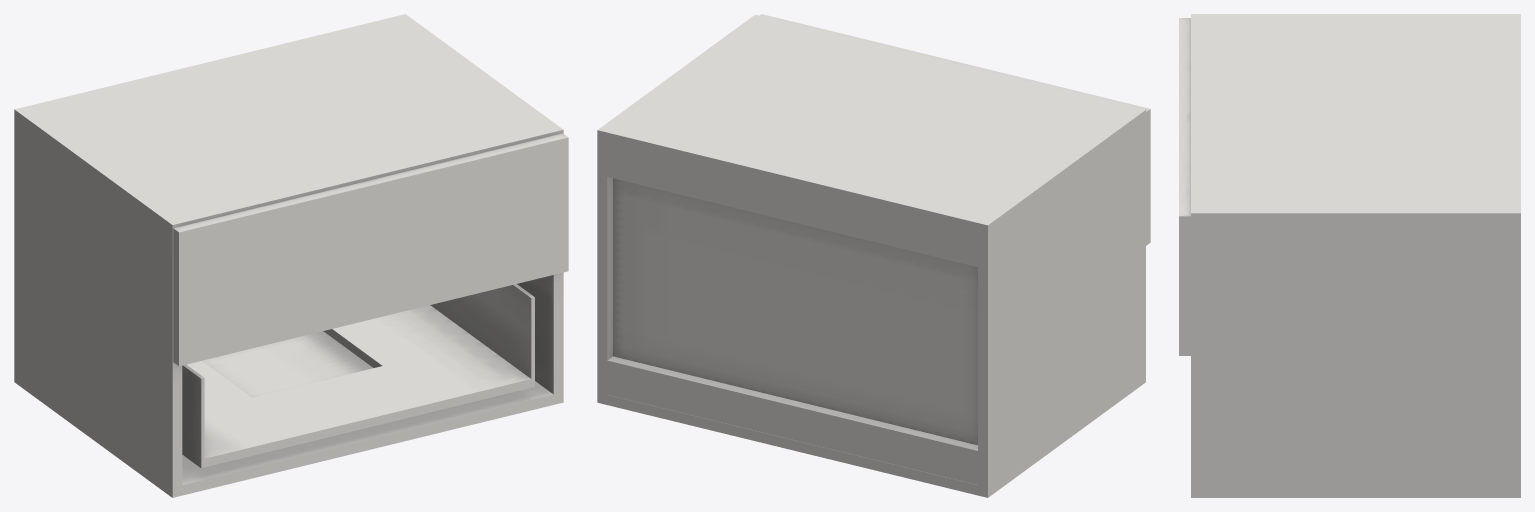
Rendered from floating-vanity-1-drawer-doors-off.glb.
The picture shows the model from 3 angles, left to right: view 1: azimuth 30°, elevation 25°; view 2: azimuth 150°, elevation 25°; view 3: azimuth 270°, elevation 25°; orthographic projection. The views are drawn at different scales.
Visible parts, largest first — view 1: part_0, part_4; view 2: part_0; view 3: part_0.
Part boxes in pixels (x1=…): part_0: x1=14, y1=14, x2=568, y2=497; part_4: x1=182, y1=284, x2=534, y2=468; part_0: x1=597, y1=14, x2=1150, y2=497; part_0: x1=1179, y1=14, x2=1520, y2=497.
Bounding box in the file's own units: 0.762 × 0.508 × 0.5527.
Materials: 2 (1 with a texture image).
